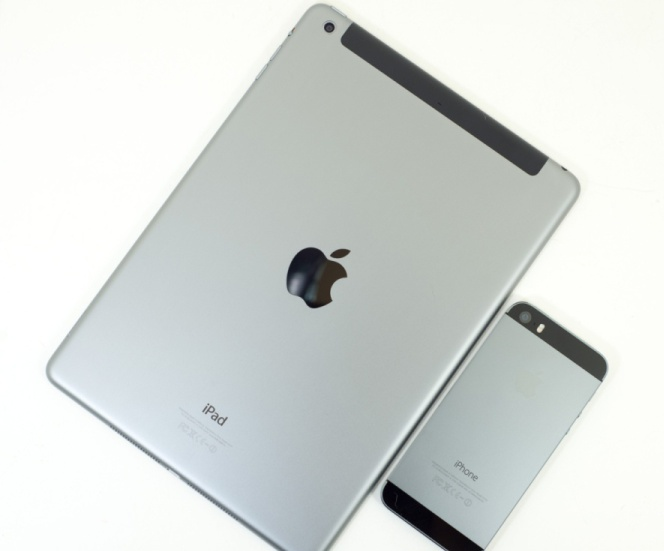apple: (268, 223, 374, 307)
